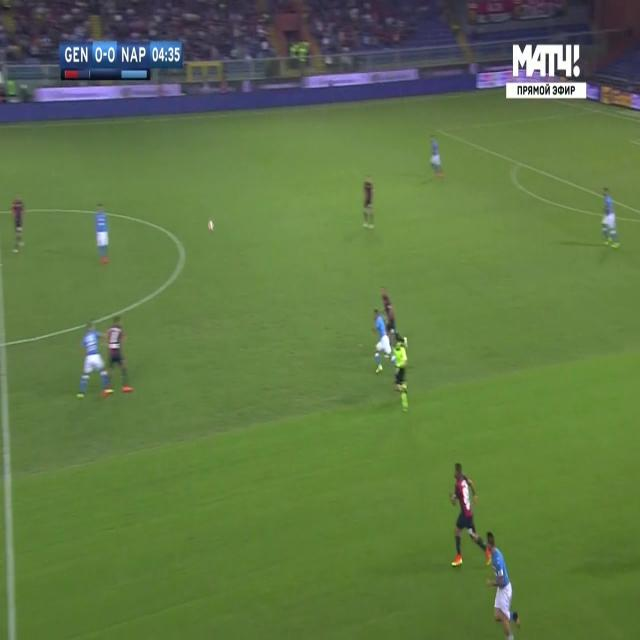Ball: (207, 216, 216, 234)
Player: (449, 460, 490, 570), (484, 529, 518, 640), (76, 320, 108, 402), (102, 314, 132, 397), (599, 184, 622, 252), (378, 284, 405, 337), (371, 309, 392, 376), (92, 199, 111, 272), (8, 192, 26, 257), (360, 174, 376, 233), (429, 133, 444, 180)
Referee: (390, 335, 410, 413)
